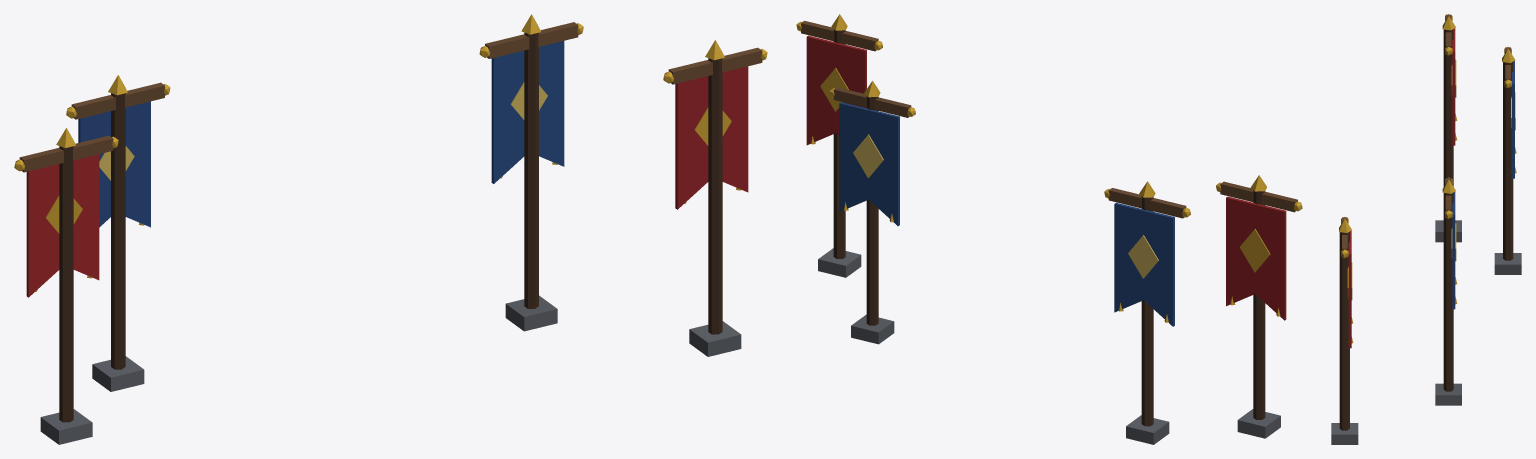
Rendered from Decor_KnightCastle_Banners.fbx.
3 renders of one model, left to right at view 1: azimuth 30°, elevation 25°; view 2: azimuth 150°, elevation 25°; view 3: azimuth 270°, elevation 25°, orthographic. The views are drawn at different scales.
Visible parts, largest first — view 1: Banners_Body; view 2: Banners_Body; view 3: Banners_Body.
Boxes of the visible parts, left/top/right/bottom form: Banners_Body: left=14, top=14, right=767, bottom=444; Banners_Body: left=796, top=14, right=1302, bottom=444; Banners_Body: left=1331, top=14, right=1521, bottom=444.
Size of the model in its own units: 34.8 by 15 by 11.7.
